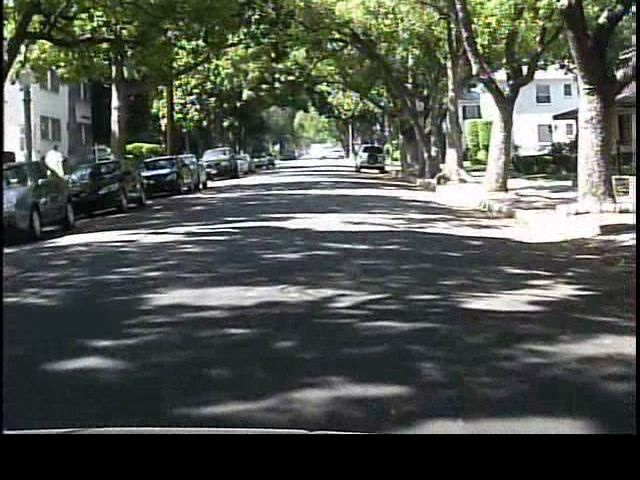person: (43, 139, 70, 202)
